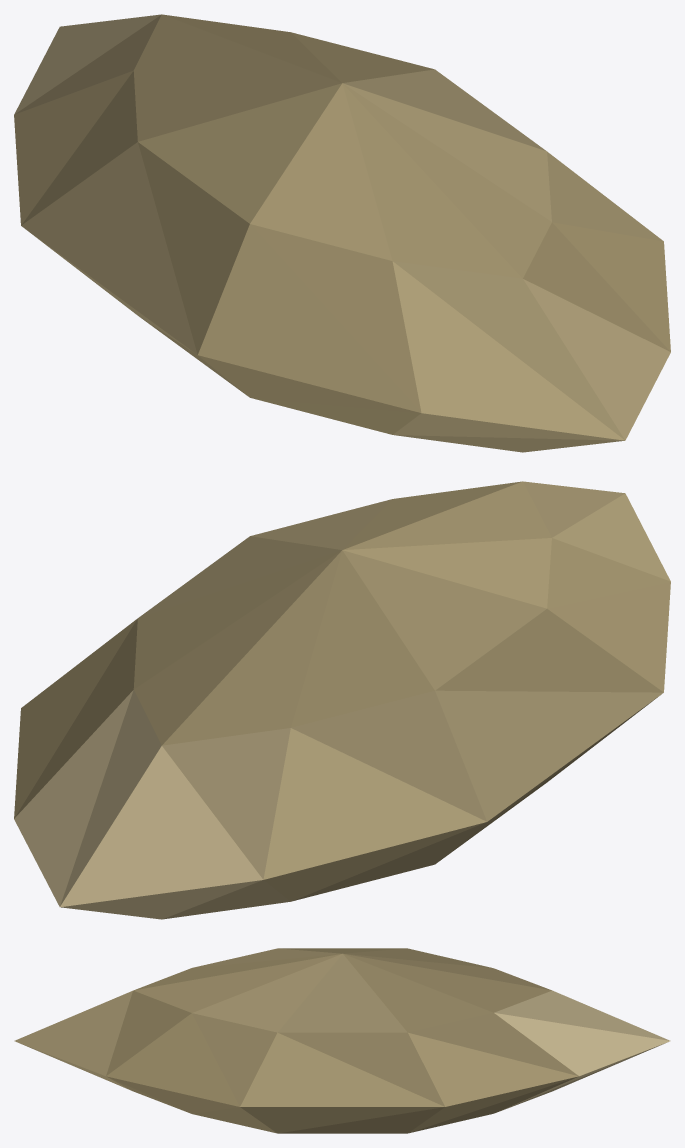
File: prop_treasure_gem_diamond3.fbx
3 views of the same model, one above another, from view 1: azimuth 30°, elevation 25°; view 2: azimuth 150°, elevation 25°; view 3: azimuth 270°, elevation 25° (orthographic). The views are drawn at different scales.
Visible parts, largest first — view 1: prop_treasure_gem_diamond3; view 2: prop_treasure_gem_diamond3; view 3: prop_treasure_gem_diamond3.
Boxes of the visible parts, x1,y1,x2,y2 form: prop_treasure_gem_diamond3: (14,14,670,452); prop_treasure_gem_diamond3: (14,481,670,919); prop_treasure_gem_diamond3: (14,948,670,1133).
Size of the model in its own units: 0.2791 by 0.1719 by 0.5865.
